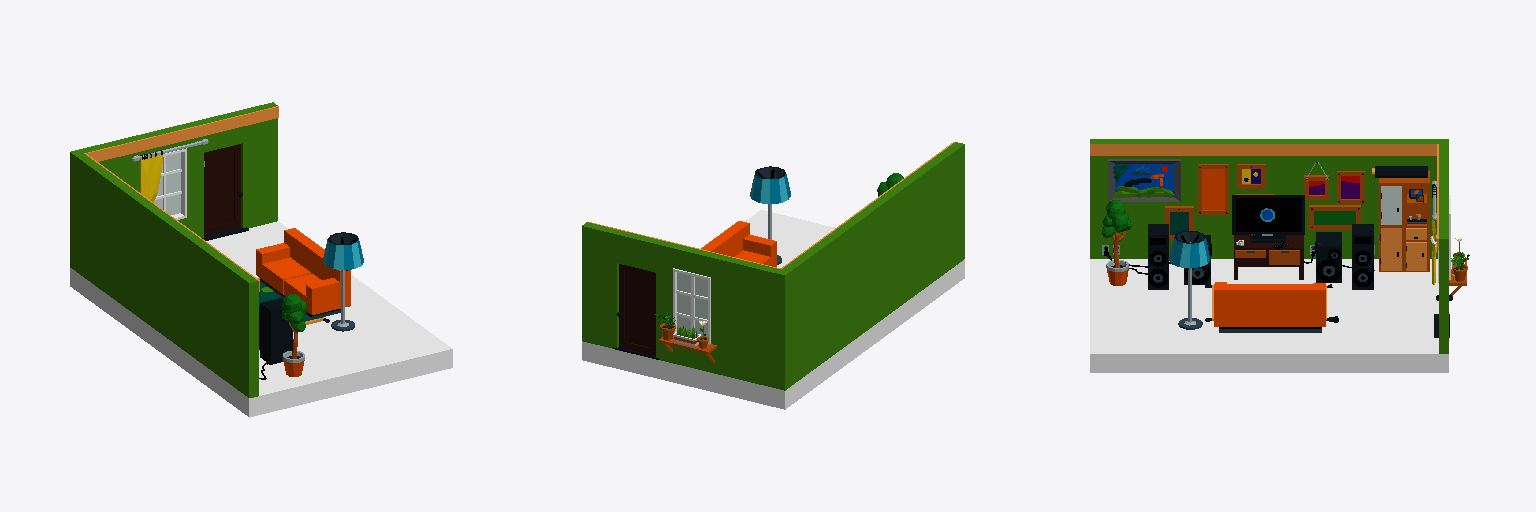
Rendered from sala.obj.
3 views of the same model, side by side, from view 1: azimuth 30°, elevation 25°; view 2: azimuth 150°, elevation 25°; view 3: azimuth 270°, elevation 25° (orthographic).
Parts seen in each view (by area): view 1: group[number redacted], group[number redacted], group[number redacted], group[number redacted], group[number redacted], group[number redacted], group[number redacted], group[number redacted], group[number redacted], group[number redacted]; view 2: group[number redacted], group[number redacted], group[number redacted], group[number redacted], group[number redacted], group[number redacted], group[number redacted]; view 3: group[number redacted], group[number redacted], group[number redacted], group[number redacted], group[number redacted], group[number redacted], group[number redacted], group[number redacted], group[number redacted], group[number redacted], group[number redacted], group[number redacted] (+11 smaller).
Part boxes in pixels (left/top/right/bottom): group[number redacted]: left=70, top=150, right=259, bottom=397; group[number redacted]: left=70, top=221, right=452, bottom=417; group[number redacted]: left=79, top=102, right=278, bottom=237; group[number redacted]: left=256, top=228, right=350, bottom=318; group[number redacted]: left=204, top=144, right=242, bottom=235; group[number redacted]: left=154, top=148, right=186, bottom=219; group[number redacted]: left=260, top=298, right=292, bottom=364; group[number redacted]: left=323, top=232, right=363, bottom=331; group[number redacted]: left=282, top=294, right=306, bottom=376; group[number redacted]: left=132, top=139, right=208, bottom=202; group[number redacted]: left=776, top=142, right=964, bottom=390; group[number redacted]: left=582, top=222, right=780, bottom=387; group[number redacted]: left=582, top=210, right=964, bottom=409; group[number redacted]: left=617, top=264, right=655, bottom=355; group[number redacted]: left=673, top=268, right=710, bottom=344; group[number redacted]: left=701, top=221, right=776, bottom=266; group[number redacted]: left=750, top=166, right=790, bottom=264; group[number redacted]: left=1090, top=259, right=1448, bottom=372; group[number redacted]: left=1090, top=139, right=1448, bottom=258; group[number redacted]: left=1214, top=282, right=1325, bottom=332; group[number redacted]: left=1232, top=195, right=1304, bottom=242; group[number redacted]: left=1108, top=159, right=1180, bottom=201; group[number redacted]: left=1437, top=144, right=1448, bottom=353; group[number redacted]: left=1234, top=235, right=1303, bottom=279; group[number redacted]: left=1379, top=171, right=1429, bottom=271; group[number redacted]: left=1168, top=231, right=1210, bottom=329; group[number redacted]: left=1198, top=164, right=1228, bottom=214; group[number redacted]: left=1352, top=224, right=1373, bottom=289; group[number redacted]: left=1102, top=200, right=1131, bottom=285.
Size of the model in its own units: 2.68 by 1.69 by 4.34.